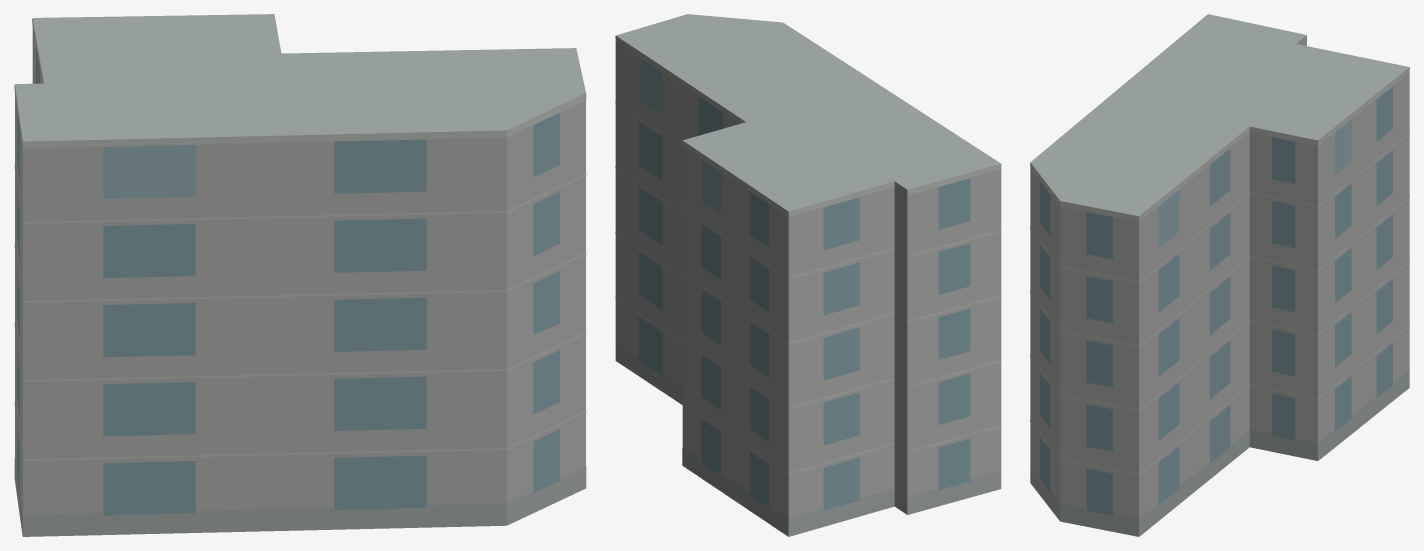
File: survey-upis-32868397.glb
3 views of the same model, side by side, from view 1: azimuth 30°, elevation 25°; view 2: azimuth 150°, elevation 25°; view 3: azimuth 270°, elevation 25° (orthographic). The views are drawn at different scales.
Visible parts, largest first — view 1: survey-upis-32868397.tmp; view 2: survey-upis-32868397.tmp; view 3: survey-upis-32868397.tmp.
Boxes of the visible parts, x1,y1,x2,y2 form: survey-upis-32868397.tmp: (14, 14, 586, 536); survey-upis-32868397.tmp: (615, 14, 1001, 536); survey-upis-32868397.tmp: (1030, 14, 1409, 536).
Size of the model in its own units: 18.63 by 13.75 by 14.77.
